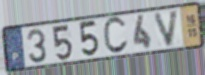3: (25, 28, 49, 65)
4: (132, 13, 153, 51)
5: (79, 18, 101, 59), (51, 23, 74, 62)
C: (102, 15, 130, 56)
V: (152, 8, 181, 49)
